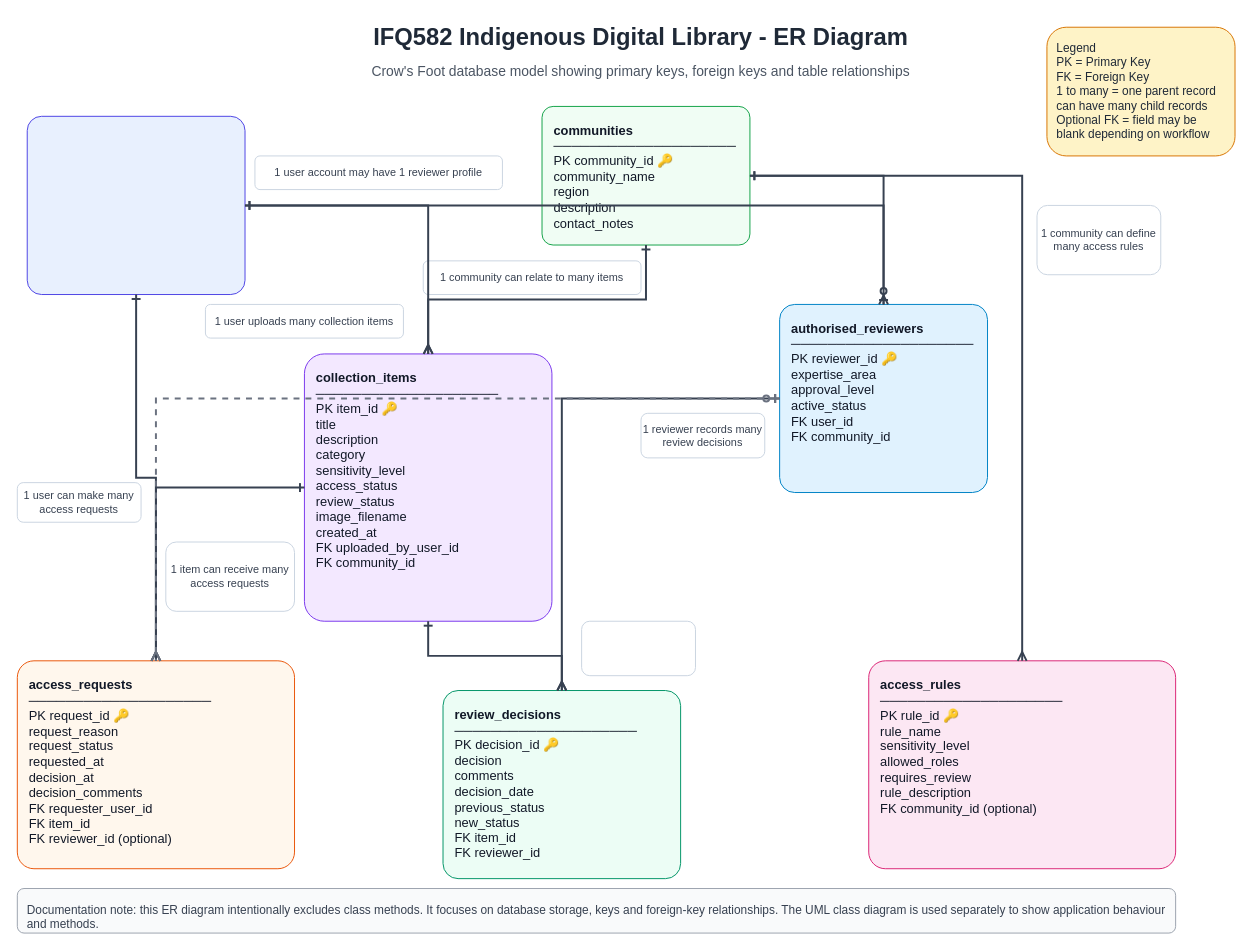
Some shapes in this 1252 by 950 pixel diagram are drawn without their labels. Each missing label, with the box of its shape:
1 item can have many review decisions: (581, 620, 695, 676)
users ──────────────────── PK user_id 🔑 name email password_hash role created_at: (26, 115, 245, 295)
